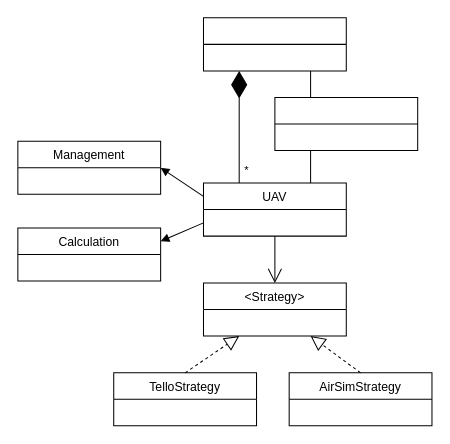
Image size: 450x444. Some labels were removed from this diagram. Each missing label, with the centre of its shape:
"CentrolControl" belongs at pixel 274 44.
"Proxy" belongs at pixel 346 123.
